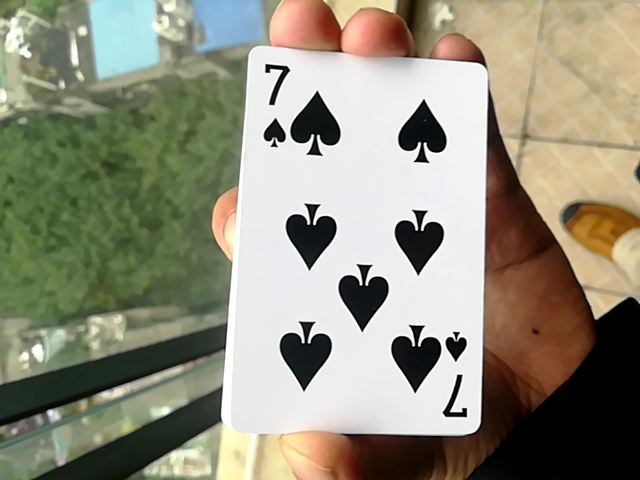ht 7: (229, 34, 475, 451)
